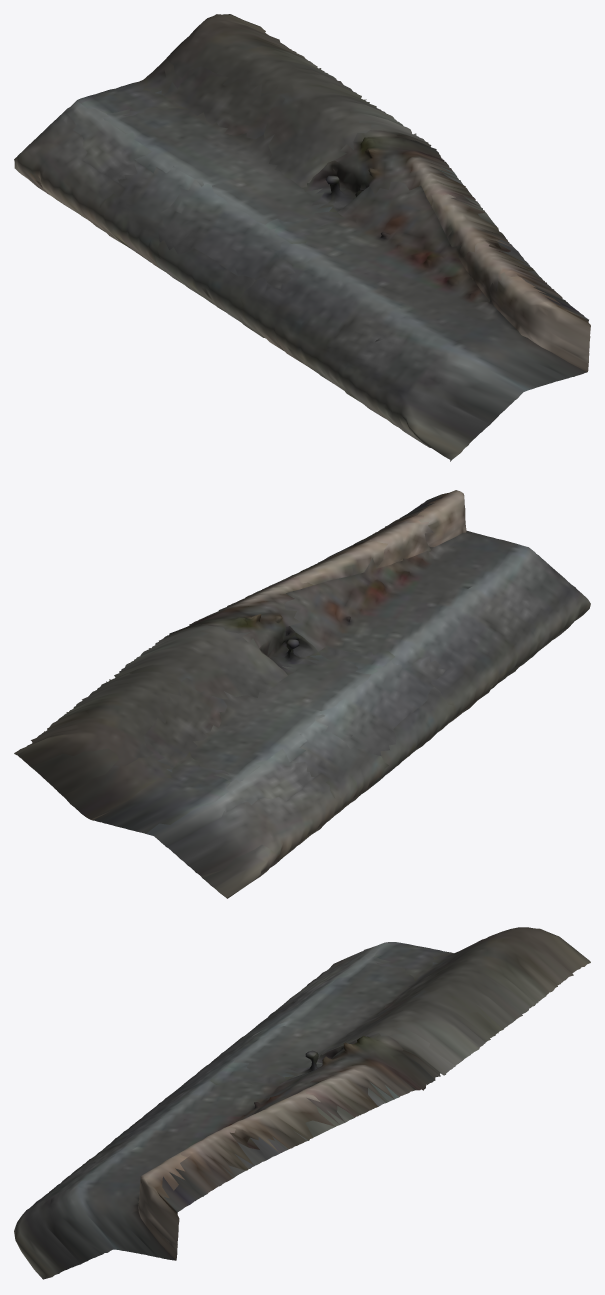
The model's file is run4_p2_c11.glb.
The picture shows the model from 3 angles, top to bottom: view 1: azimuth 30°, elevation 25°; view 2: azimuth 150°, elevation 25°; view 3: azimuth 330°, elevation 25°; orthographic projection. The views are drawn at different scales.
Parts seen in each view (by area): view 1: run4_p2_straight_c11; view 2: run4_p2_straight_c11; view 3: run4_p2_straight_c11.
Boxes of the visible parts, x1=… form: run4_p2_straight_c11: x1=14, y1=14, x2=590, y2=461; run4_p2_straight_c11: x1=14, y1=490, x2=590, y2=898; run4_p2_straight_c11: x1=14, y1=927, x2=590, y2=1279.
Size of the model in its own units: 8 by 3.95 by 20.29.
Materials: 1 (1 with a texture image).
